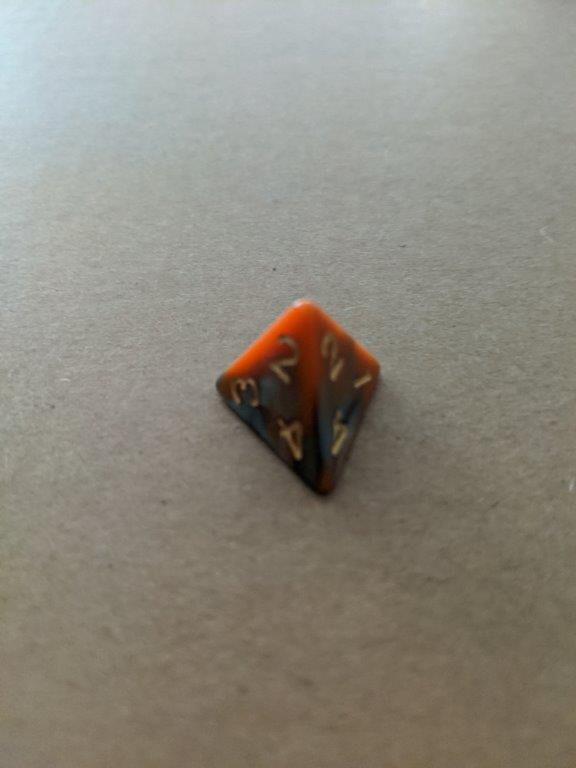d4-2: (211, 296, 389, 502)
